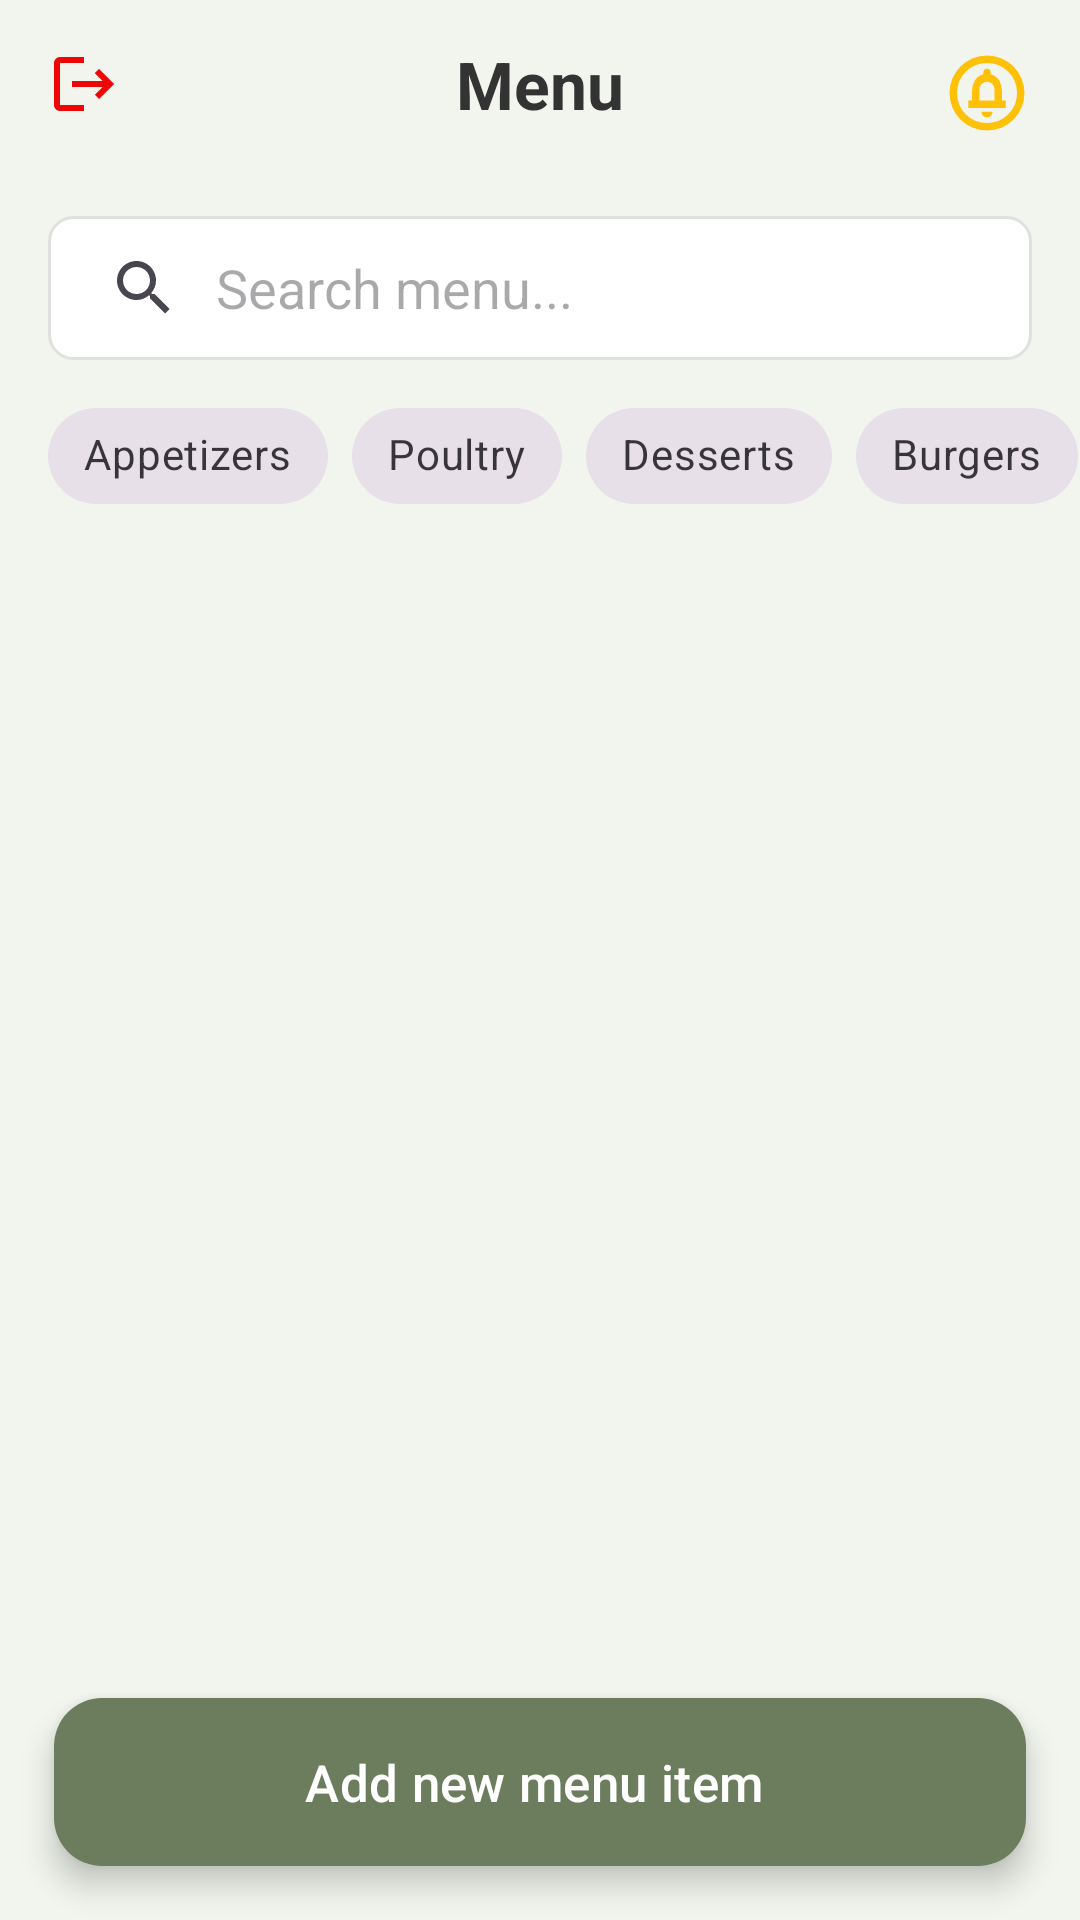

Where icons sit on this 1080x1920 app screen, as (x1, y1, x2, y2):
Notifications: (949, 55, 1025, 131)
